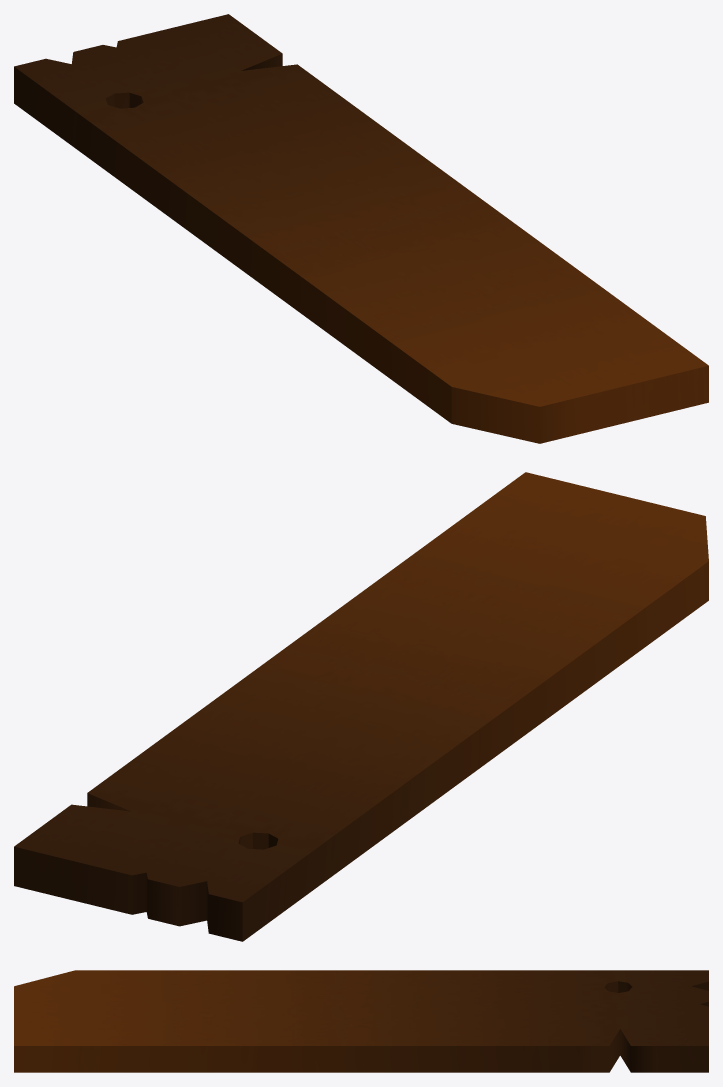
Rendered from WoodenPlankos2.fbx.
The picture shows the model from 3 angles, top to bottom: view 1: azimuth 30°, elevation 25°; view 2: azimuth 150°, elevation 25°; view 3: azimuth 270°, elevation 25°; orthographic projection. The views are drawn at different scales.
Visible parts, largest first — view 1: WoodenPlankos2; view 2: WoodenPlankos2; view 3: WoodenPlankos2.
Part boxes in pixels (bbox=[...]): WoodenPlankos2: bbox=[14, 14, 708, 443]; WoodenPlankos2: bbox=[14, 472, 708, 941]; WoodenPlankos2: bbox=[14, 970, 708, 1072].
Size of the model in its own units: 1 by 0.1647 by 3.87.
